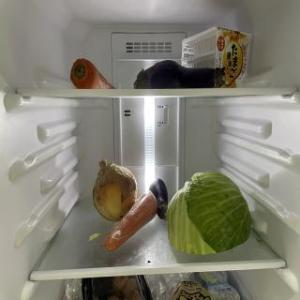cabbage: (167, 171, 259, 255)
carrot: (105, 190, 157, 248), (73, 60, 116, 90)
eggplant: (134, 60, 182, 90), (179, 63, 226, 87), (150, 178, 170, 218)
onion: (92, 159, 138, 221)
